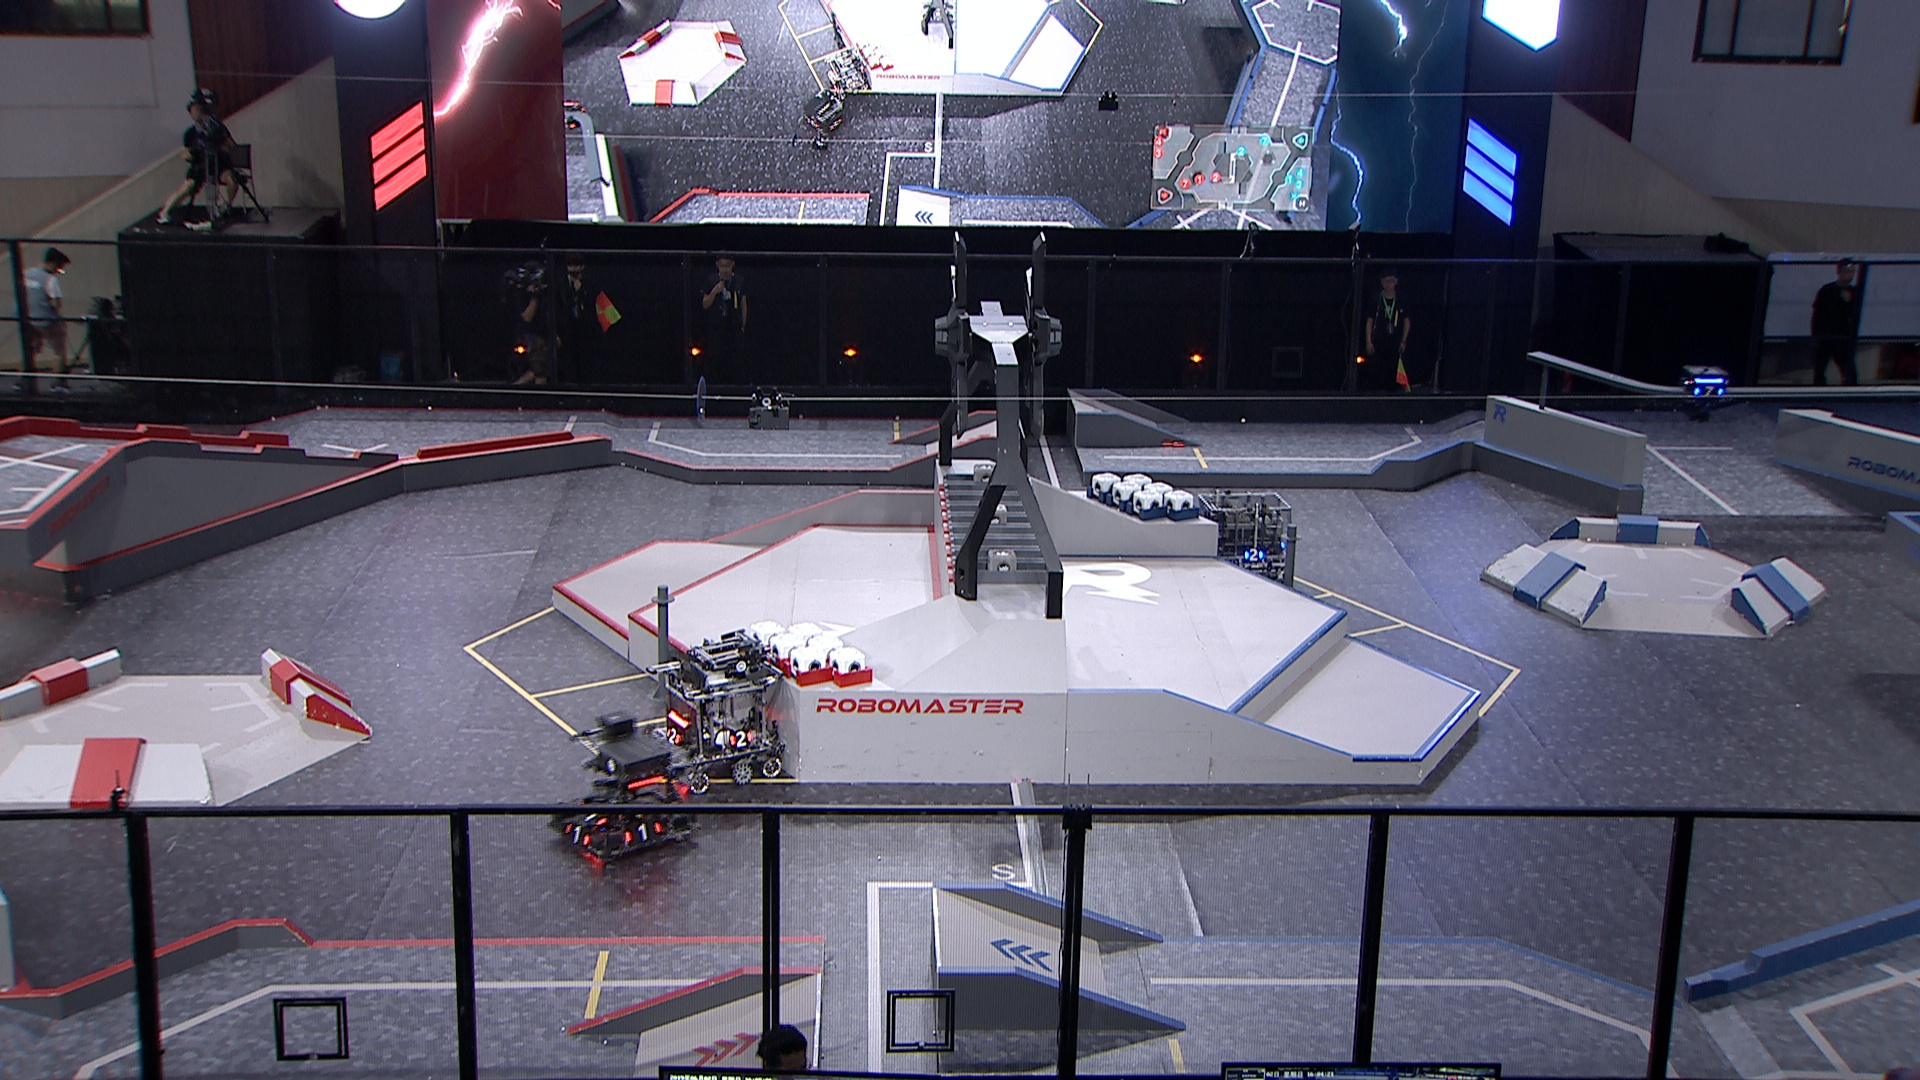armor: (622, 822, 665, 841), (562, 822, 591, 847), (727, 731, 756, 752), (576, 811, 608, 829), (1693, 385, 1726, 400), (1244, 546, 1266, 564), (665, 727, 683, 746)
car: (546, 713, 700, 872), (644, 628, 787, 794), (1197, 488, 1294, 585)
ignore: (804, 92, 845, 138), (828, 53, 872, 94), (562, 98, 588, 131)
watcher: (1680, 363, 1730, 422)
